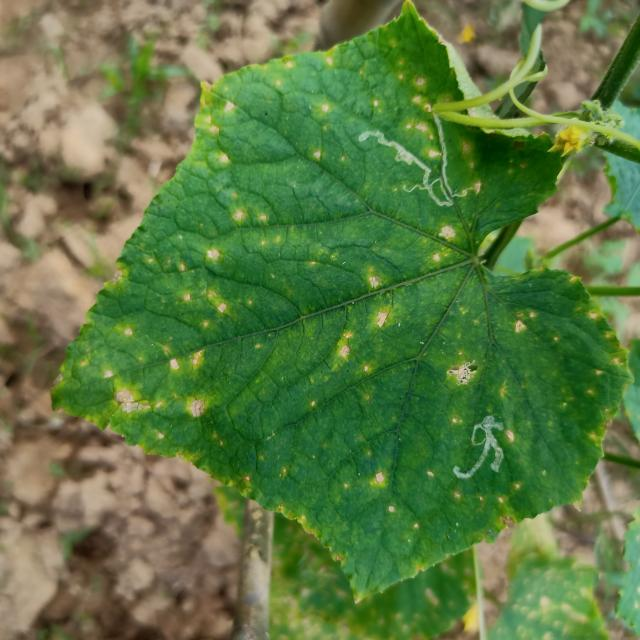disease_cucumber: (89, 101, 274, 472), (242, 48, 496, 254), (326, 267, 613, 414), (348, 461, 525, 525)
